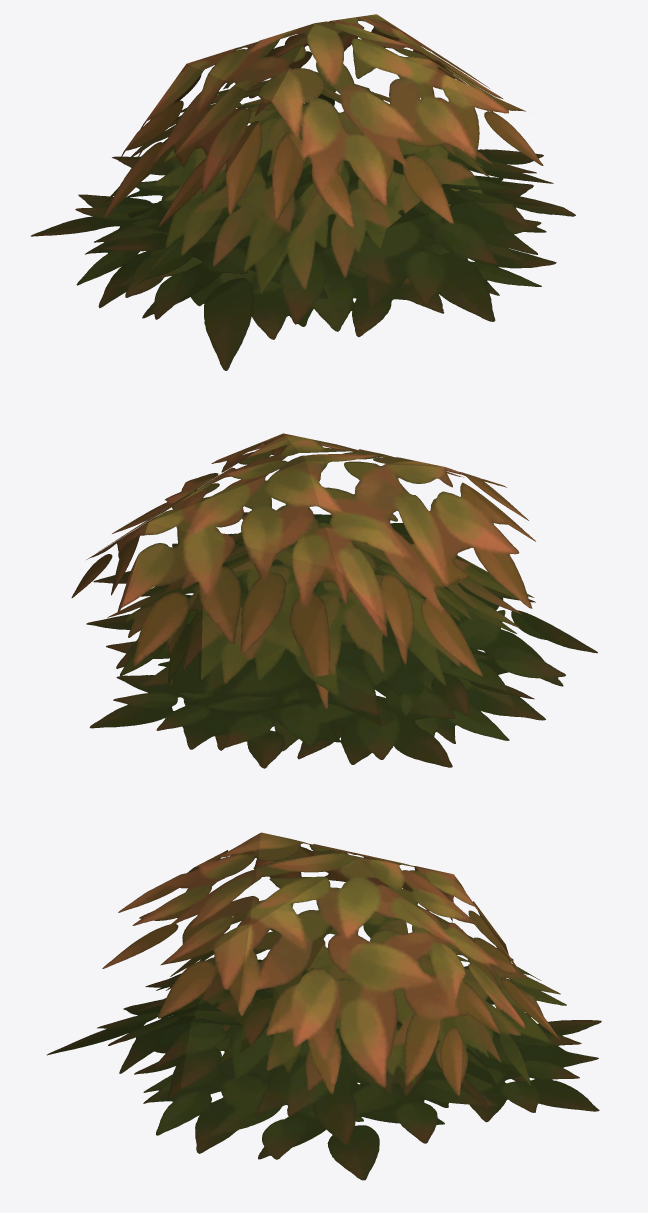
Rendered from bush_06.fbx.
3 renders of one model, top to bottom at view 1: azimuth 30°, elevation 25°; view 2: azimuth 150°, elevation 25°; view 3: azimuth 270°, elevation 25°, orthographic.
Visible parts, largest first — view 1: obj0.097; view 2: obj0.097; view 3: obj0.097.
Part boxes in pixels (left/top/right/bottom): obj0.097: left=31, top=14, right=575, bottom=370; obj0.097: left=71, top=433, right=597, bottom=768; obj0.097: left=47, top=832, right=601, bottom=1180.
Bounding box in the file's own units: 3.52 × 1.55 × 3.61.
